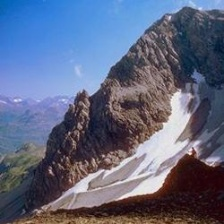neutral: (3, 2, 224, 218)
